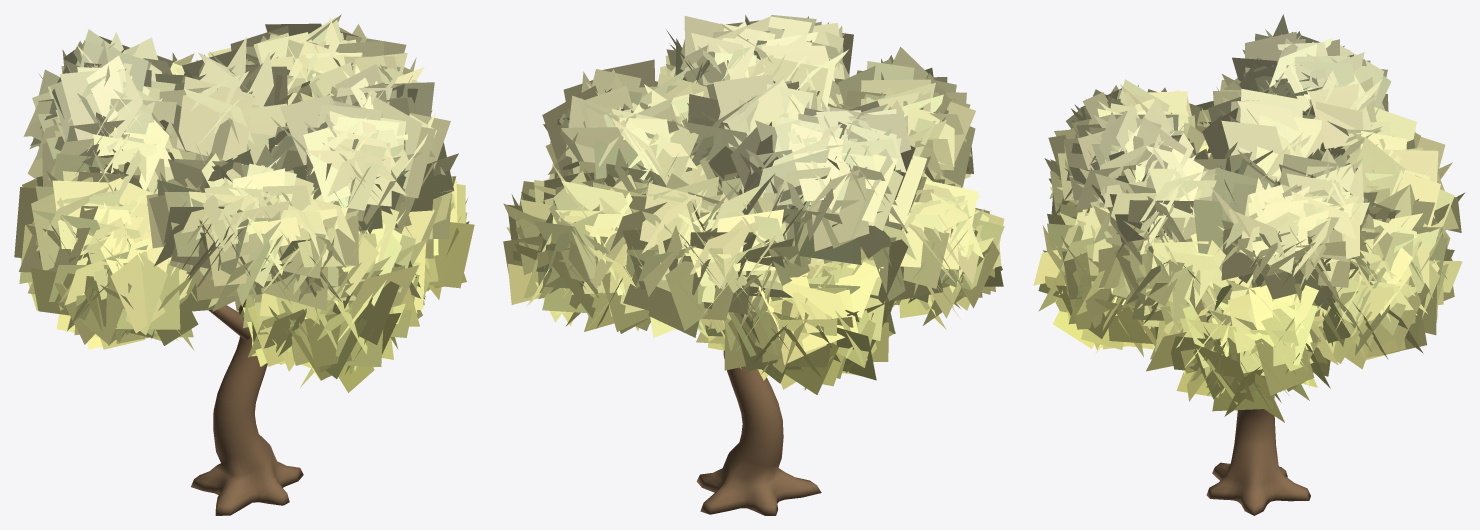
Rendered from broadleaf.glb.
3 views of the same model, side by side, from view 1: azimuth 30°, elevation 25°; view 2: azimuth 150°, elevation 25°; view 3: azimuth 270°, elevation 25° (orthographic). The views are drawn at different scales.
Parts seen in each view (by area): view 1: Leaves.008, Branches.007; view 2: Leaves.008, Branches.007; view 3: Leaves.008, Branches.007.
Part boxes in pixels (<box>): Leaves.008: <box>14,14,474,392</box>; Branches.007: <box>191,299,303,515</box>; Leaves.008: <box>503,14,1004,394</box>; Branches.007: <box>696,350,821,515</box>; Leaves.008: <box>1033,14,1464,422</box>; Branches.007: <box>1206,409,1310,515</box>.
Size of the model in its own units: 7.93 by 7.51 by 7.3.
2 materials, 1 textured.
